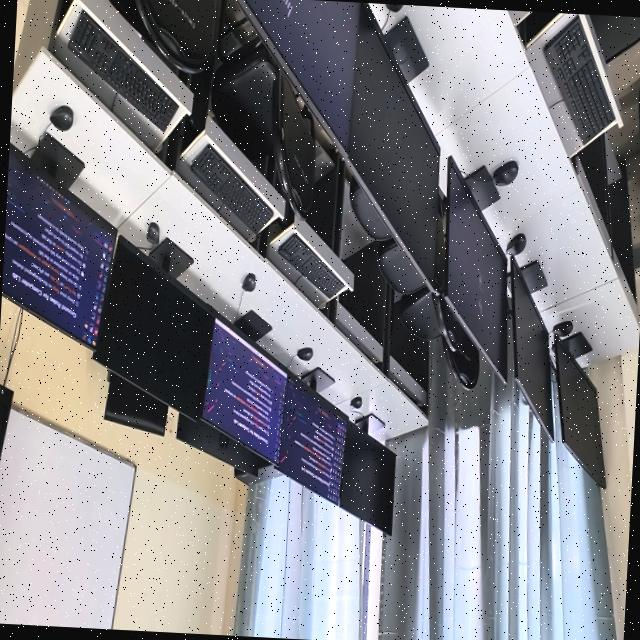Chair: (211, 43, 315, 217), (377, 239, 462, 350), (398, 287, 479, 389), (134, 0, 220, 73), (103, 370, 167, 436), (349, 181, 390, 240)
Digital board: (0, 385, 13, 456)
Keyboard: (68, 11, 177, 131), (544, 16, 612, 142), (191, 145, 272, 233), (277, 233, 343, 297)
Monitor: (346, 2, 439, 288), (1, 142, 116, 349), (92, 236, 218, 420), (245, 0, 359, 149), (442, 156, 507, 380), (201, 319, 286, 463), (278, 377, 346, 505), (507, 256, 553, 441), (552, 332, 605, 488), (339, 421, 395, 534), (176, 413, 259, 476)
Mouse: (492, 160, 518, 185), (49, 105, 73, 130), (505, 234, 525, 256), (552, 321, 572, 336), (146, 222, 159, 244), (241, 273, 255, 291), (296, 347, 312, 361), (350, 396, 362, 411), (385, 3, 402, 12)
